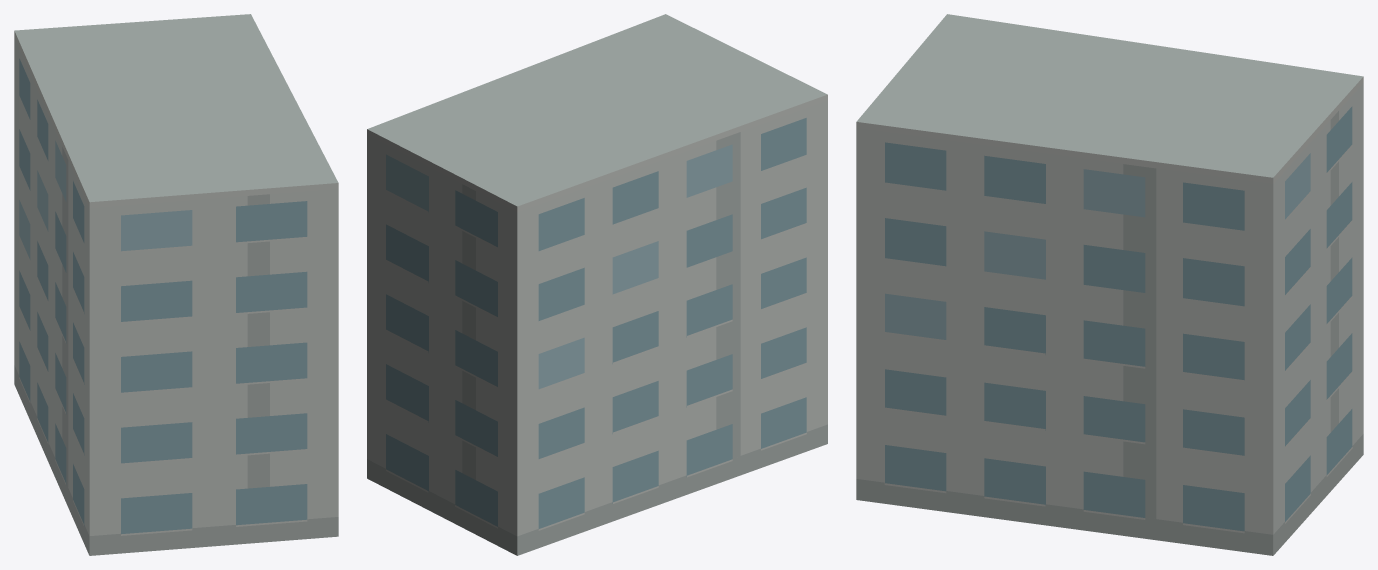
File: survey-upis-32889279.glb
The picture shows the model from 3 angles, left to right: view 1: azimuth 30°, elevation 25°; view 2: azimuth 150°, elevation 25°; view 3: azimuth 270°, elevation 25°; orthographic projection. The views are drawn at different scales.
Visible parts, largest first — view 1: survey-upis-32889279.tmp; view 2: survey-upis-32889279.tmp; view 3: survey-upis-32889279.tmp.
Part boxes in pixels (x1,y1,x2,y2): survey-upis-32889279.tmp: [14, 14, 338, 555]; survey-upis-32889279.tmp: [367, 14, 827, 555]; survey-upis-32889279.tmp: [856, 14, 1363, 555].
Size of the model in its own units: 13.38 by 14.4 by 17.52.
